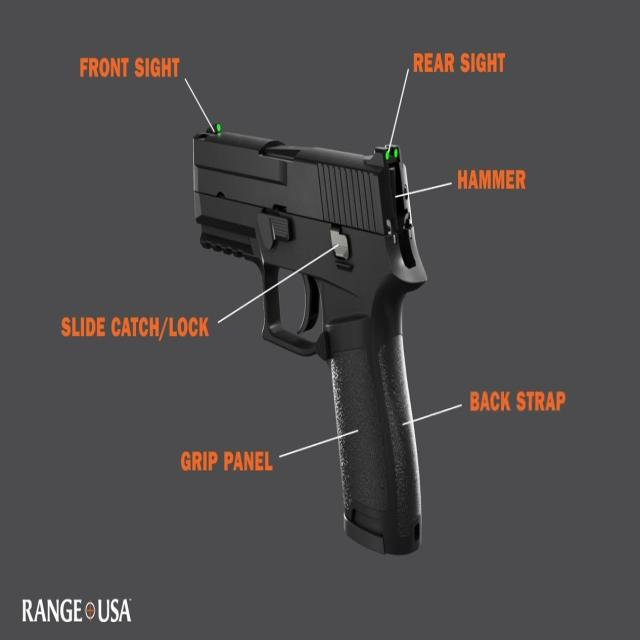Weapon: (193, 127, 426, 554)
